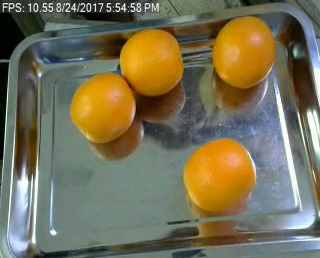Orange: (182, 138, 256, 210), (68, 72, 135, 142), (213, 15, 277, 87), (118, 28, 183, 95)
